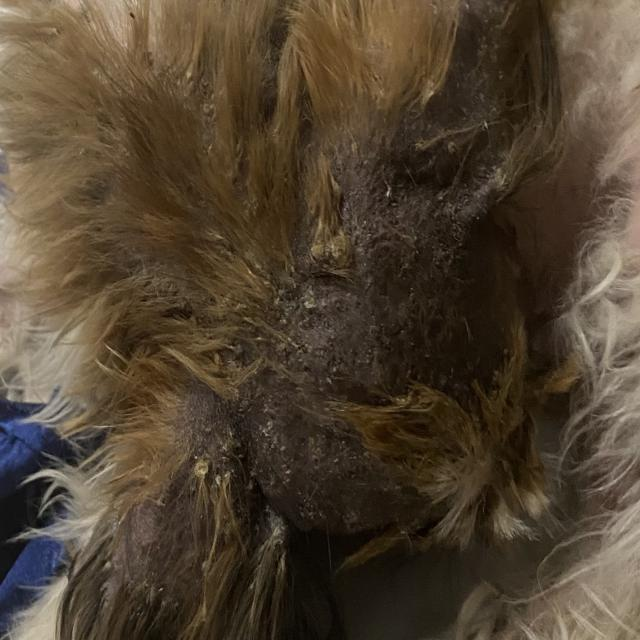demodicosis: (307, 25, 543, 371), (134, 396, 383, 589)
